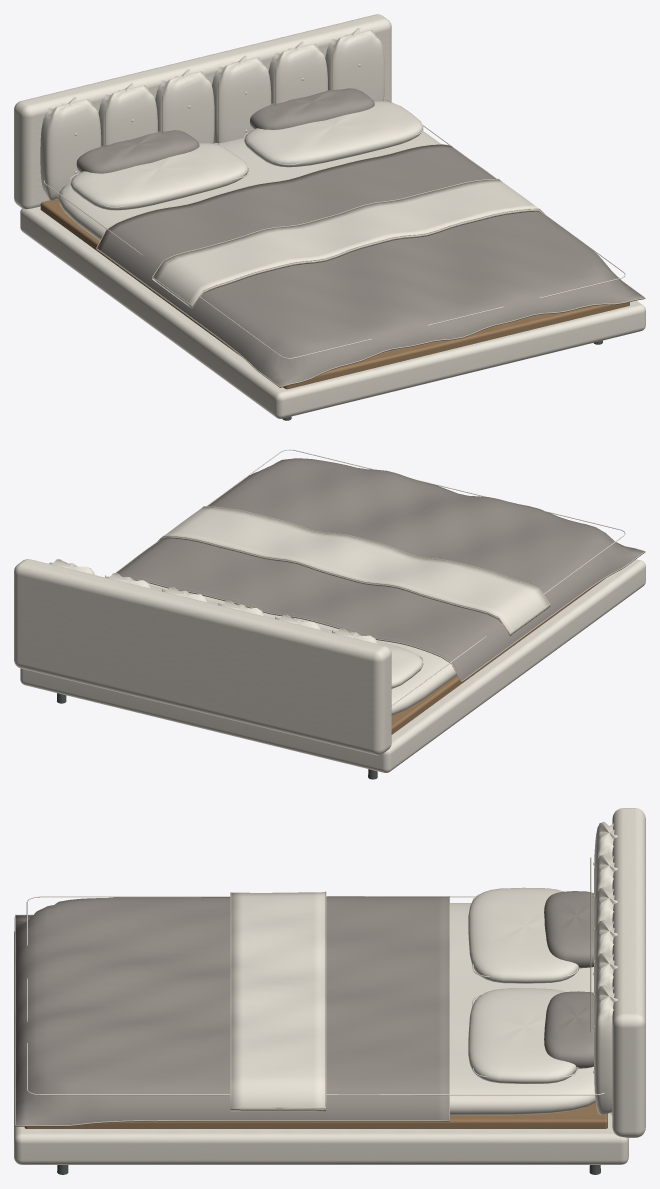
The picture shows the model from 3 angles, top to bottom: view 1: azimuth 30°, elevation 25°; view 2: azimuth 150°, elevation 25°; view 3: azimuth 270°, elevation 25°; orthographic projection. The views are drawn at different scales.
Visible parts, largest first — view 1: quilt_draped, bed_platform, throw_fold, headboard_frame, pillow_sleep_1, pillow_sleep_0, mattress, bed_support, headboard_panel_0, headboard_panel_3, headboard_panel_2, headboard_panel_5 (+7 smaller); view 2: quilt_draped, headboard_frame, throw_fold, bed_platform, mattress, bed_support, throw_fold_piping, pillow_sleep_0, mattress_piping, quilt_draped_piping; view 3: quilt_draped, bed_platform, throw_fold, headboard_frame, mattress, pillow_sleep_0, pillow_sleep_1, bed_support, pillow_decor_1, pillow_decor_0, headboard_panel_5, mattress_piping (+7 smaller).
Part boxes in pixels (x1,y1,x2,y2): quilt_draped: [96, 144, 645, 387]; bed_platform: [20, 206, 645, 418]; throw_fold: [152, 179, 542, 308]; headboard_frame: [14, 14, 391, 209]; pillow_sleep_1: [244, 101, 423, 167]; pillow_sleep_0: [70, 143, 248, 210]; mattress: [59, 131, 536, 353]; bed_support: [40, 199, 629, 389]; headboard_panel_0: [40, 97, 101, 200]; headboard_panel_3: [212, 55, 271, 142]; headboard_panel_2: [155, 69, 214, 143]; headboard_panel_5: [325, 28, 384, 101]; quilt_draped: [116, 458, 645, 682]; headboard_frame: [14, 559, 391, 755]; throw_fold: [160, 507, 550, 636]; bed_platform: [20, 559, 645, 772]; mattress: [135, 580, 456, 715]; bed_support: [391, 578, 605, 734]; throw_fold_piping: [157, 506, 550, 633]; pillow_sleep_0: [321, 628, 423, 688]; mattress_piping: [110, 449, 625, 705]; quilt_draped_piping: [132, 545, 645, 681]; quilt_draped: [15, 896, 449, 1126]; bed_platform: [14, 931, 628, 1164]; throw_fold: [230, 892, 325, 1111]; headboard_frame: [612, 808, 645, 1137]; mattress: [450, 903, 595, 1115]; pillow_sleep_0: [468, 887, 579, 983]; pillow_sleep_1: [468, 988, 577, 1083]; bed_support: [24, 1102, 607, 1128]; pillow_decor_1: [544, 991, 594, 1068]; pillow_decor_0: [544, 891, 594, 968]; headboard_panel_5: [594, 985, 617, 1115]; mattress_piping: [26, 896, 604, 1095].
Size of the model in its own units: 1.6 by 0.6 by 2.
Materials: 5 (3 with a texture image).
